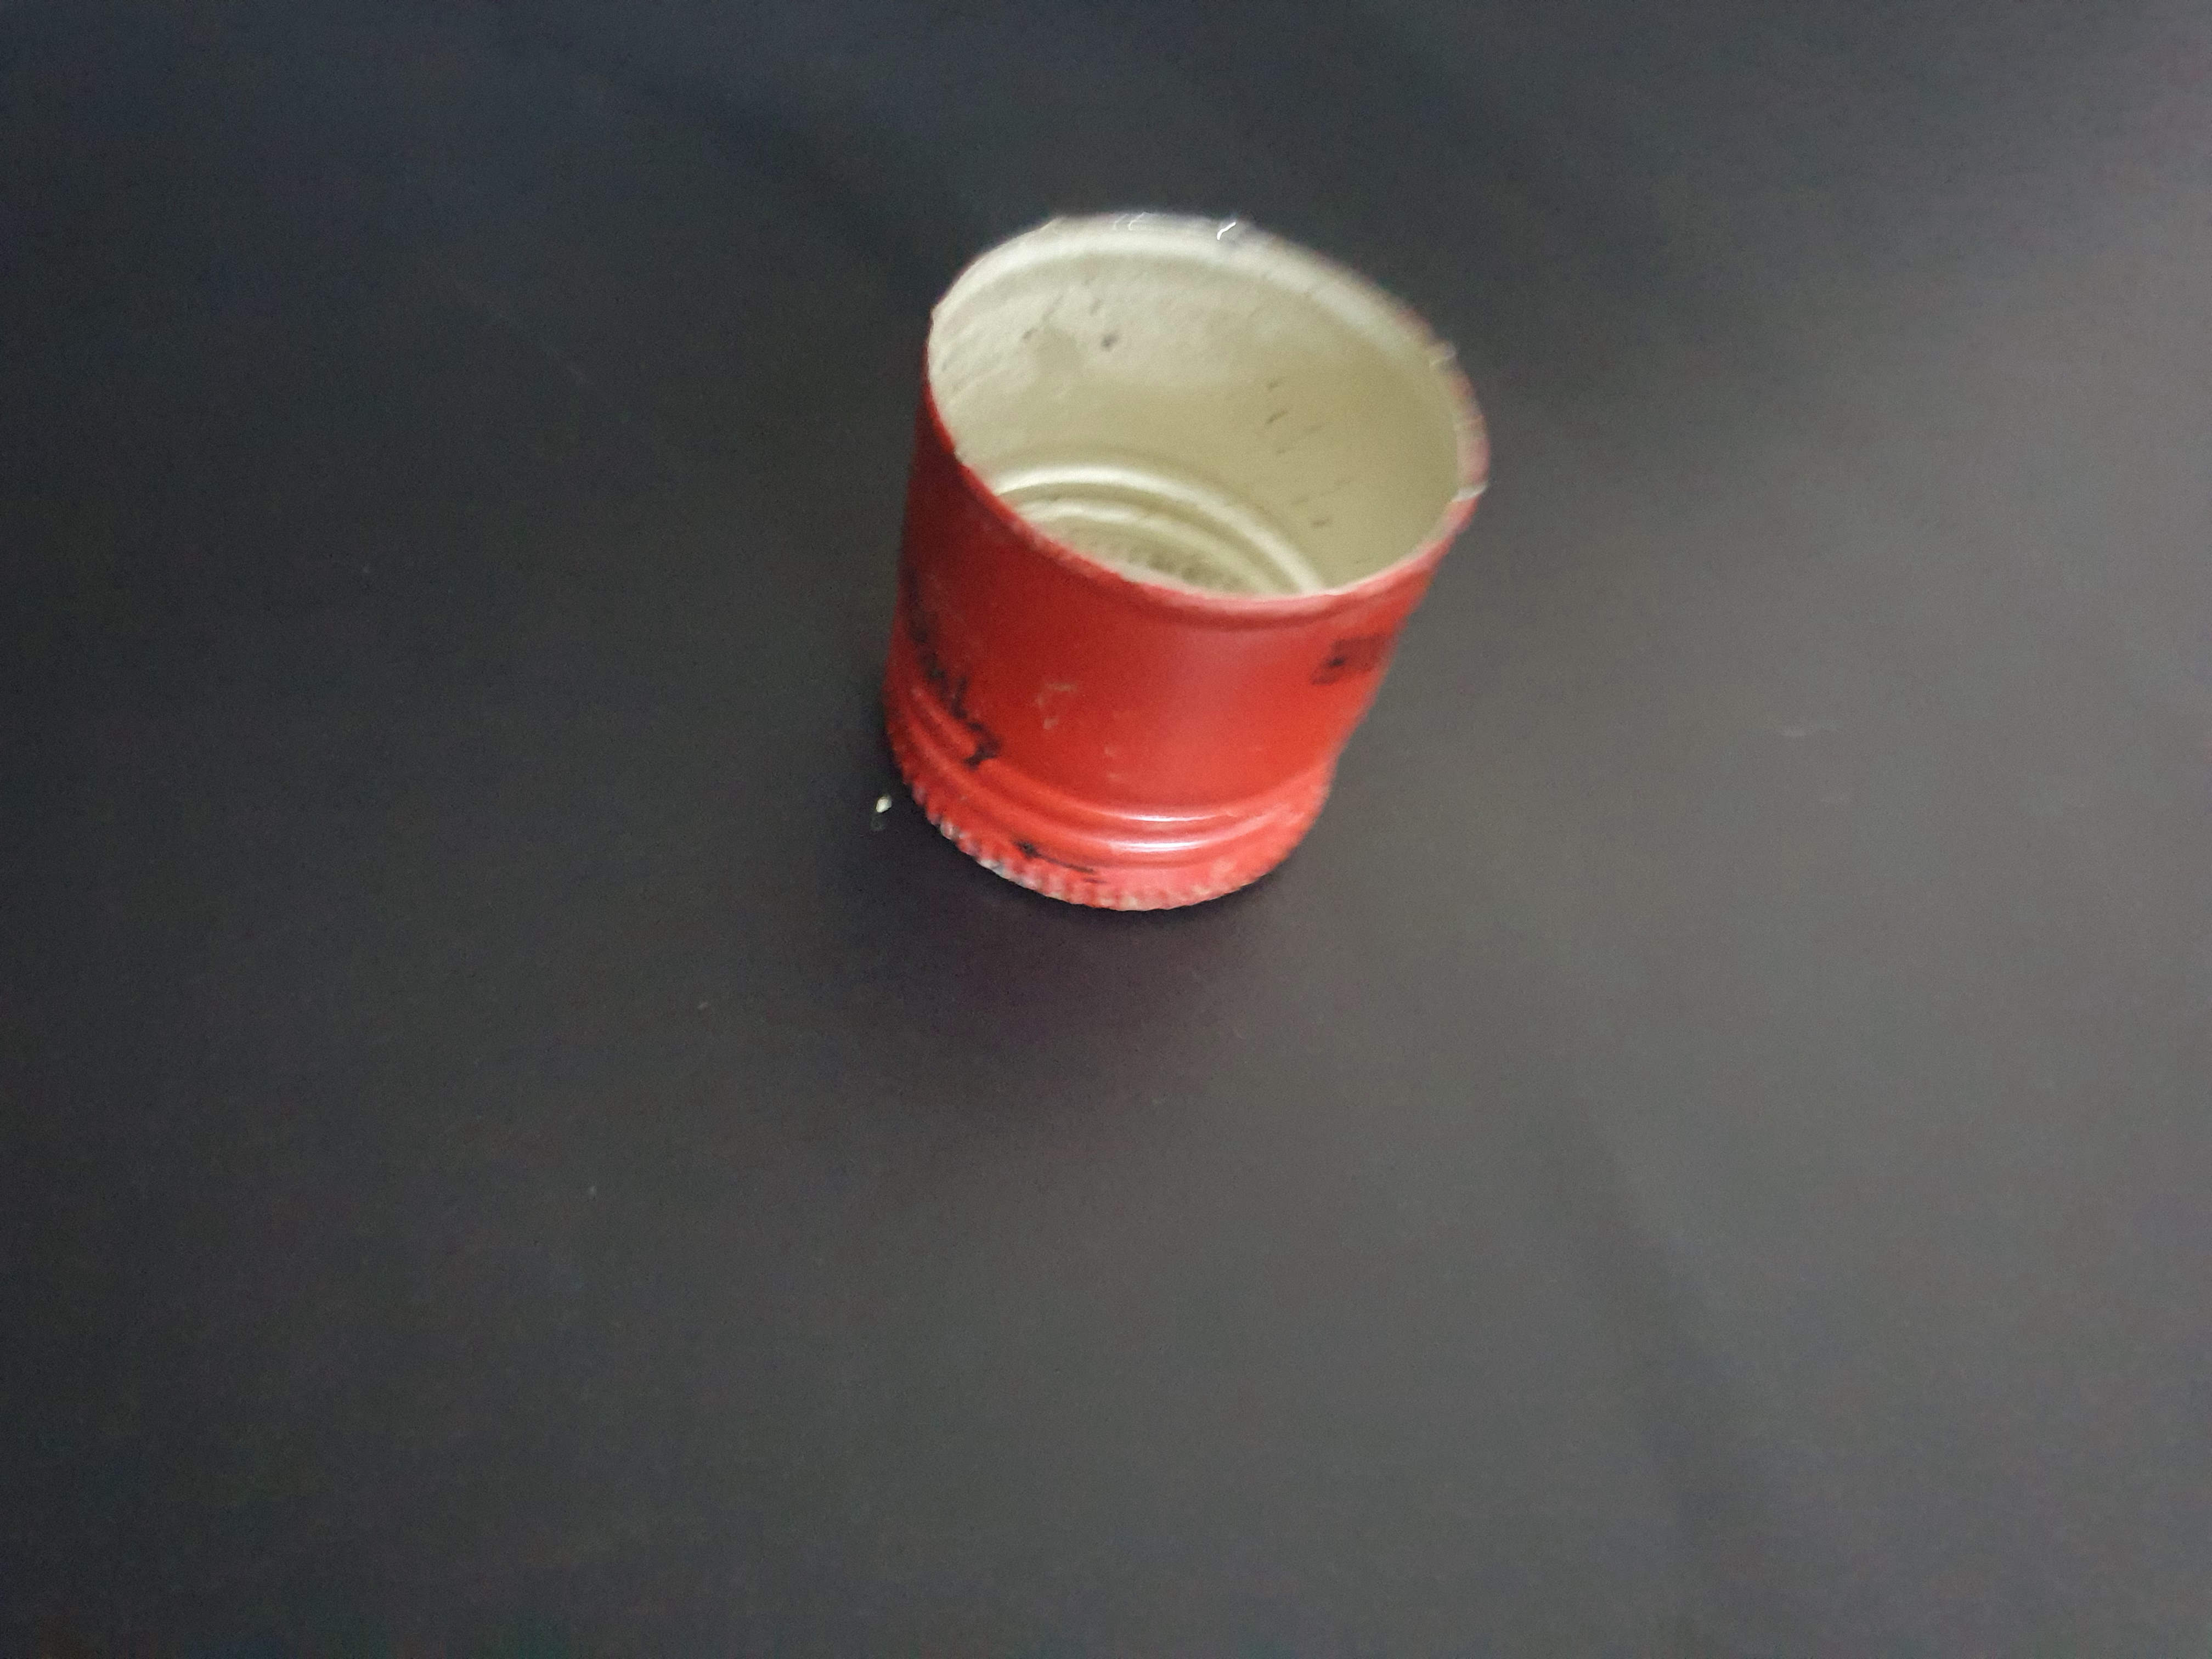metal: (834, 162, 1507, 964)
